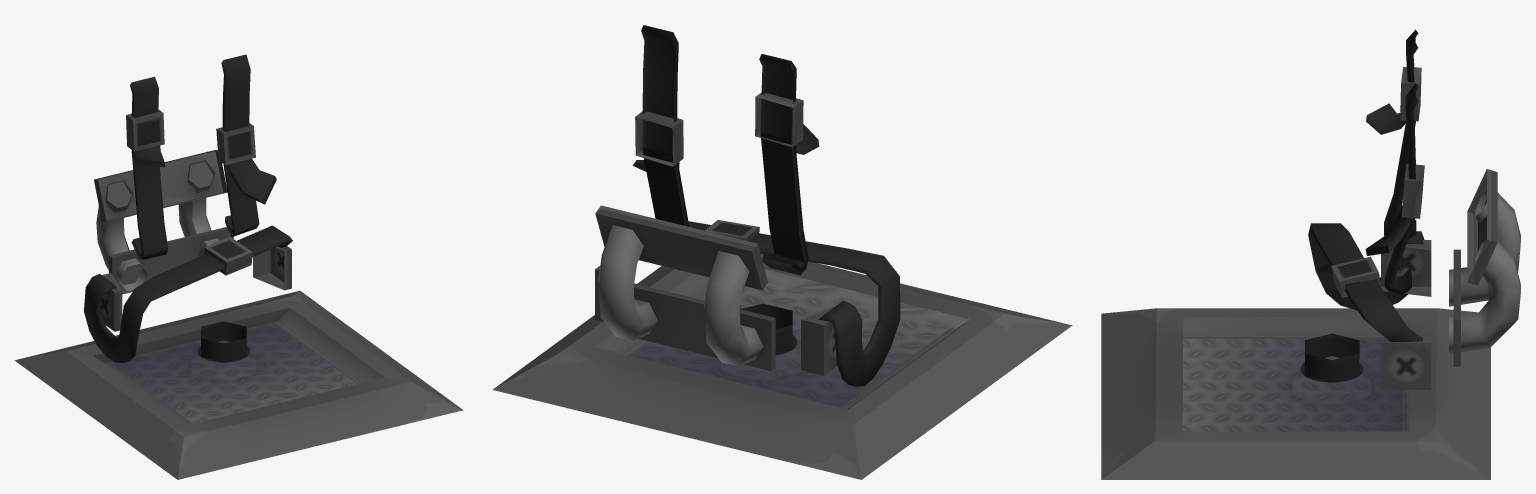
The model's file is obj_interactive_seat_01.fbx.
3 renders of one model, left to right at view 1: azimuth 30°, elevation 25°; view 2: azimuth 150°, elevation 25°; view 3: azimuth 270°, elevation 25°, orthographic. The views are drawn at different scales.
Parts seen in each view (by area): view 1: obj_interactive_seat_01; view 2: obj_interactive_seat_01; view 3: obj_interactive_seat_01.
Boxes of the visible parts, <box> form: obj_interactive_seat_01: <box>14,54,463,479</box>; obj_interactive_seat_01: <box>492,25,1072,479</box>; obj_interactive_seat_01: <box>1101,29,1520,479</box>.
Bounding box in the file's own units: 3.5 × 3.45 × 3.73.
